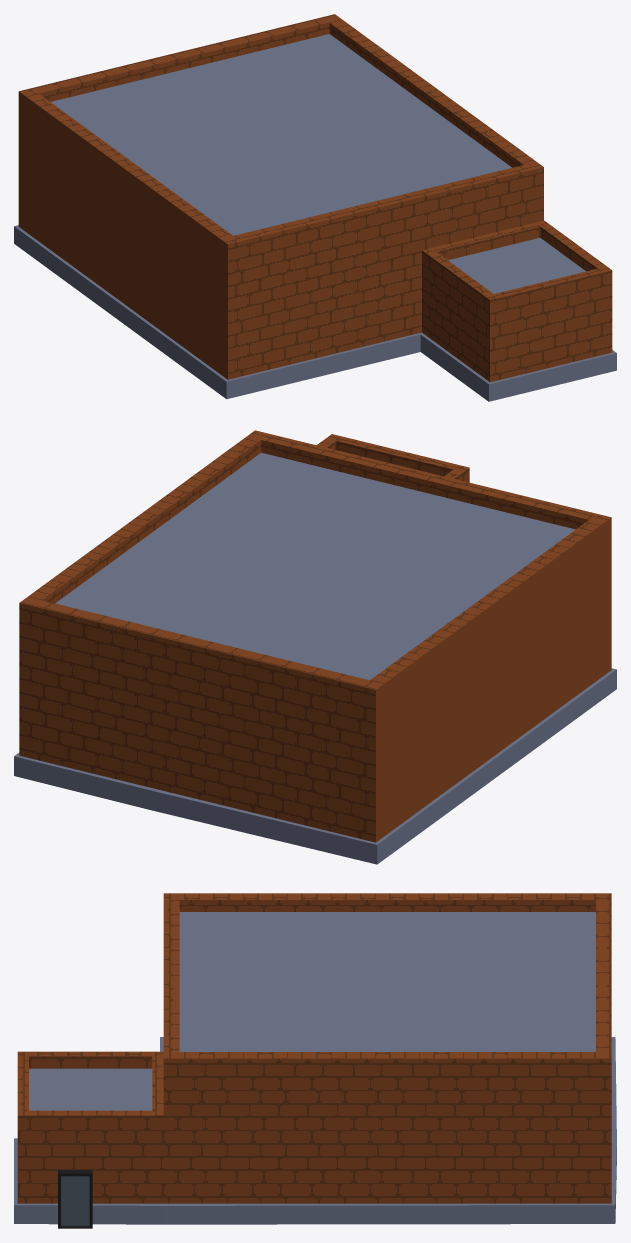
Rendered from BigBuilding.fbx.
3 views of the same model, one above another, from view 1: azimuth 30°, elevation 25°; view 2: azimuth 150°, elevation 25°; view 3: azimuth 270°, elevation 25° (orthographic). The views are drawn at different scales.
Visible parts, largest first — view 1: Cube; view 2: Cube; view 3: Cube.
Part boxes in pixels (<box>): Cube: <box>14,14,616,401</box>; Cube: <box>14,430,616,864</box>; Cube: <box>14,893,616,1228</box>.
Size of the model in its own units: 2481 by 1685 by 744.
